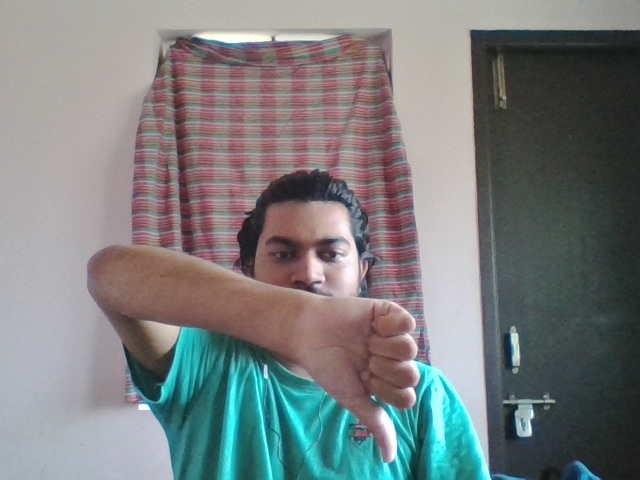ThumbsDown: (303, 298, 421, 463)
